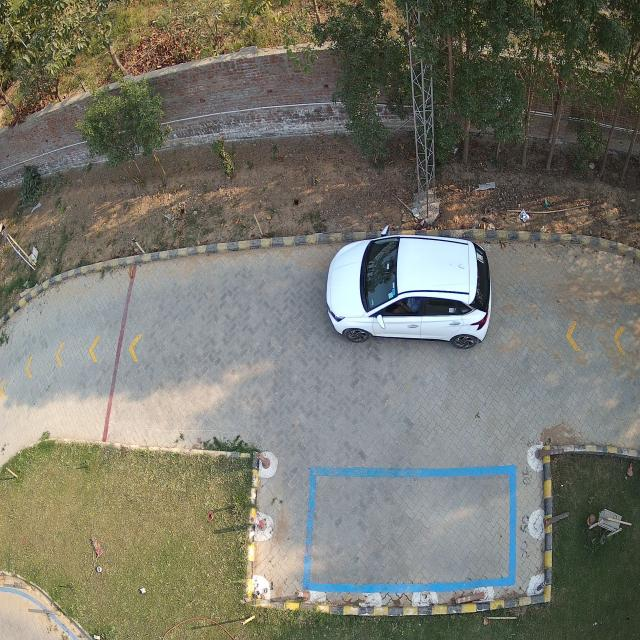car: (325, 237, 492, 348)
